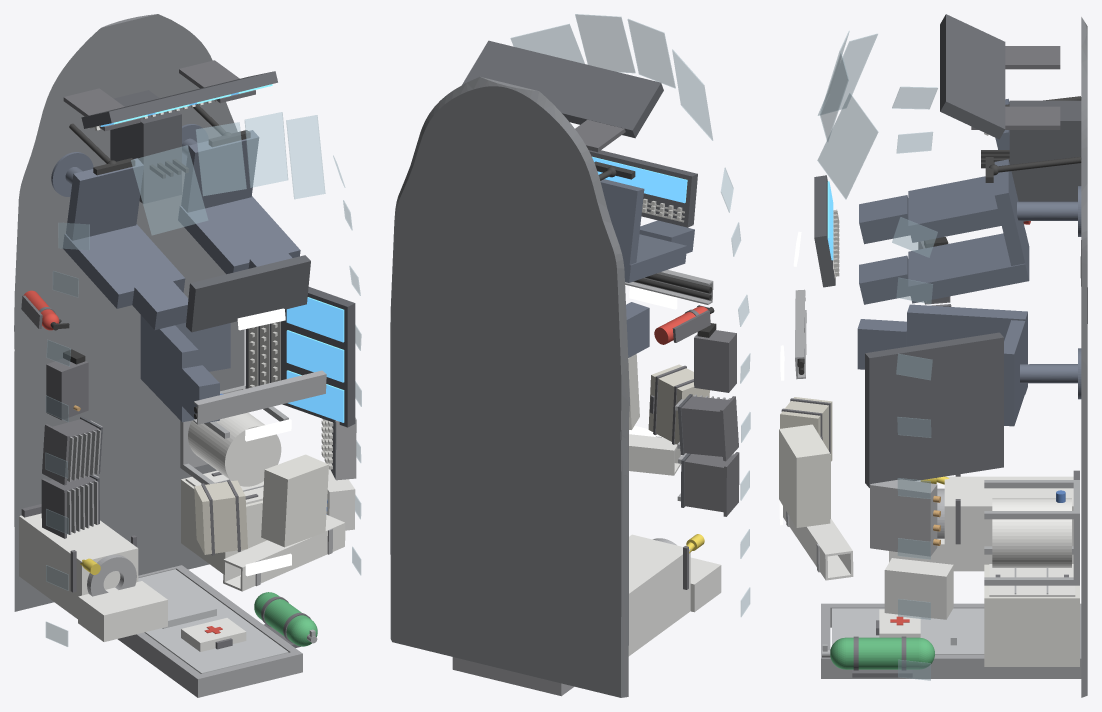
Rendered from cockpit04_inline_droop_cockpit_cutaway.glb.
The picture shows the model from 3 angles, left to right: view 1: azimuth 30°, elevation 25°; view 2: azimuth 150°, elevation 25°; view 3: azimuth 270°, elevation 25°; orthographic projection. The views are drawn at different scales.
Visible parts, largest first — view 1: cabin_floor, window_glass_inner, seat_1, seat_2, seat_3, eq22_1_body, hatch_door_1, overhead_panel, hatch_tunnel_1, stowage_lockers, engineer_panel_screens, centre_pedestal (+27 smaller); view 2: cabin_floor, window_glass_inner, main_panel, eq22_1_body, seat_1, eq15_1_body, eq02_2_chassis, eq02_1_chassis, eq19_1_bag, overhead_panel, eq18_1_duct, overhead_panel_screens (+13 smaller); view 3: engineer_panel, window_glass_inner, seat_2, seat_3, eq21_1_body, seat_1, main_panel, centre_pedestal, eq22_1_body, eq11_1_tank, cabin_floor, stowage_lockers (+17 smaller).
Part boxes in pixels (box(x1,y1,x2,y2)): cabin_floor: box(14, 14, 244, 611); window_glass_inner: box(45, 112, 361, 646); seat_1: box(51, 152, 188, 329); seat_2: box(178, 124, 300, 274); seat_3: box(140, 315, 230, 423); eq22_1_body: box(19, 513, 138, 618); hatch_door_1: box(138, 569, 288, 673); overhead_panel: box(186, 255, 310, 332); hatch_tunnel_1: box(117, 565, 302, 697); stowage_lockers: box(261, 454, 328, 547); engineer_panel_screens: box(286, 297, 344, 422); centre_pedestal: box(110, 90, 181, 203); cabin_floor: box(390, 77, 629, 697); window_glass_inner: box(510, 14, 750, 616); main_panel: box(462, 40, 663, 138); eq22_1_body: box(628, 534, 690, 656); seat_1: box(600, 179, 694, 282); eq15_1_body: box(694, 330, 736, 392); eq02_2_chassis: box(681, 396, 728, 456); eq02_1_chassis: box(684, 454, 732, 512); eq19_1_bag: box(648, 364, 709, 444); overhead_panel: box(588, 150, 697, 227); eq18_1_duct: box(629, 434, 680, 475); overhead_panel_screens: box(592, 156, 687, 203); engineer_panel: box(865, 332, 1003, 487); window_glass_inner: box(817, 31, 937, 680); seat_2: box(859, 159, 1081, 304); seat_3: box(857, 304, 1081, 426); eq21_1_body: box(984, 564, 1079, 666); seat_1: box(859, 98, 1025, 244); main_panel: box(940, 14, 1005, 139); centre_pedestal: box(1009, 100, 1081, 201); eq22_1_body: box(944, 476, 1073, 571); eq11_1_tank: box(992, 498, 1071, 567); cabin_floor: box(1080, 17, 1087, 697); stowage_lockers: box(779, 424, 830, 527).
Bounding box in the file's own units: 2.4 × 4.3 × 1.94.
